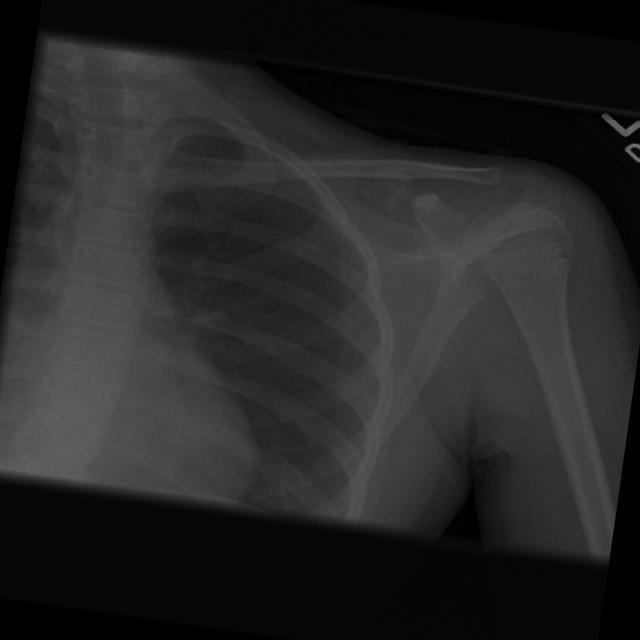shoulder fracture: (479, 239, 597, 297)
